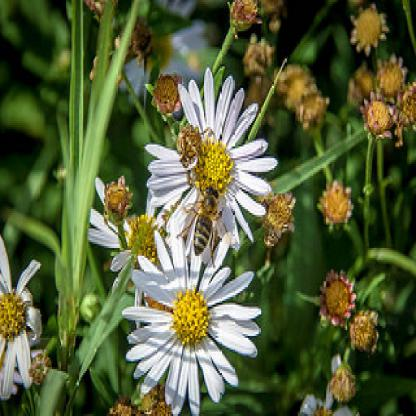ASTER: (118, 44, 291, 407), (1, 139, 90, 406)
